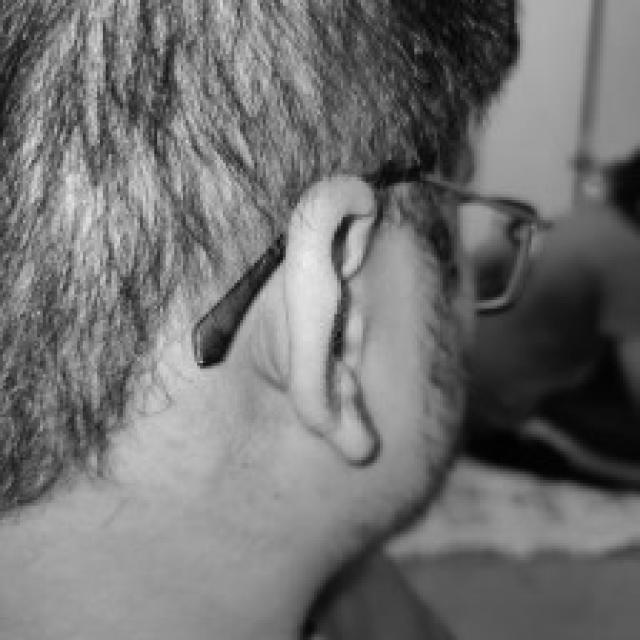ear: (286, 177, 371, 460)
